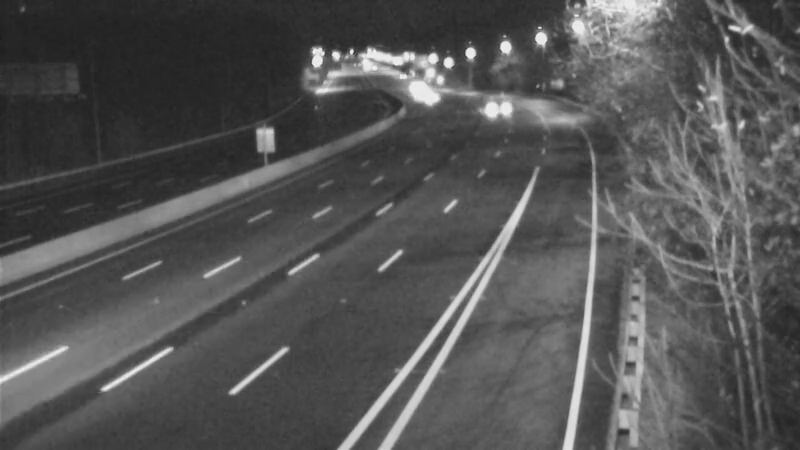vehicle: (388, 63, 438, 113), (393, 69, 443, 119), (401, 71, 451, 121), (467, 86, 517, 136)
